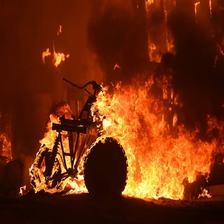fire: (23, 35, 221, 205)
